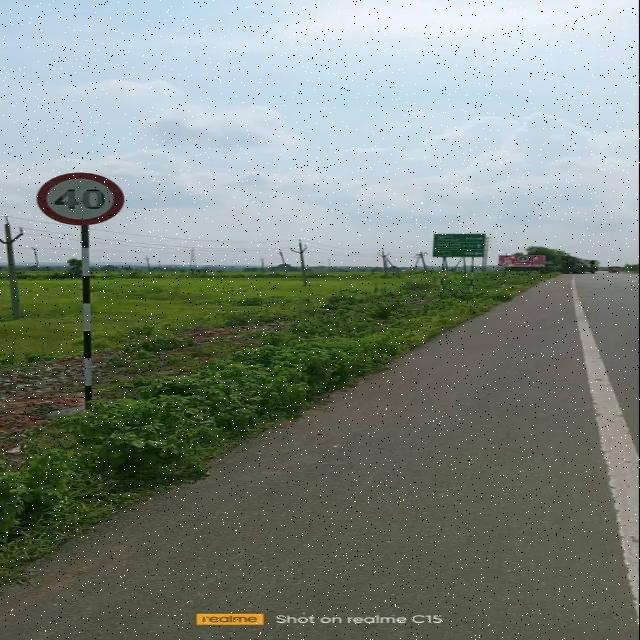speedlimit_40: (41, 172, 132, 231)
